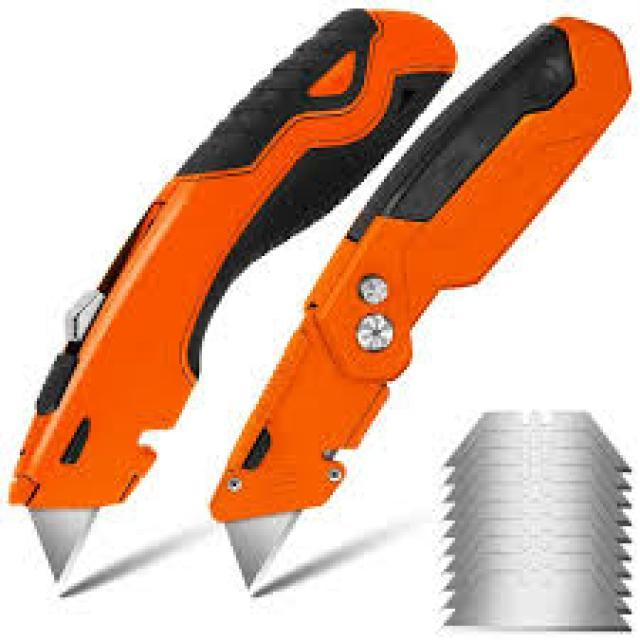cutter: (0, 0, 475, 594), (199, 0, 640, 600)
